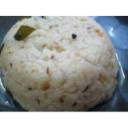venpongal: (5, 19, 116, 106)
